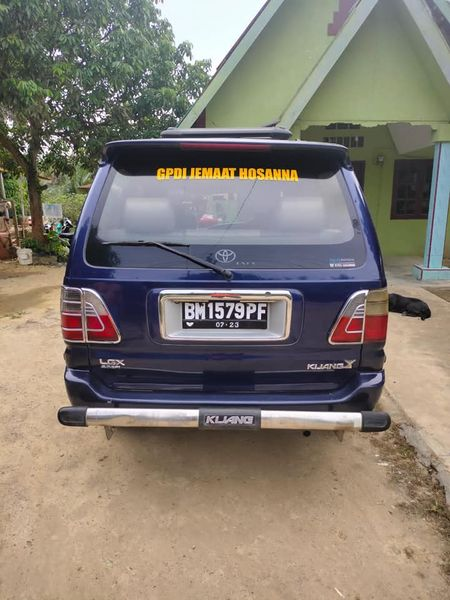plate: (179, 292, 271, 342)
